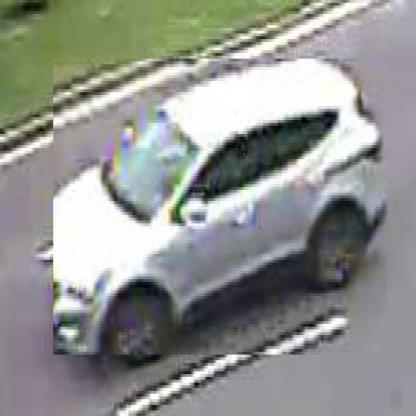car: (53, 60, 389, 358)
